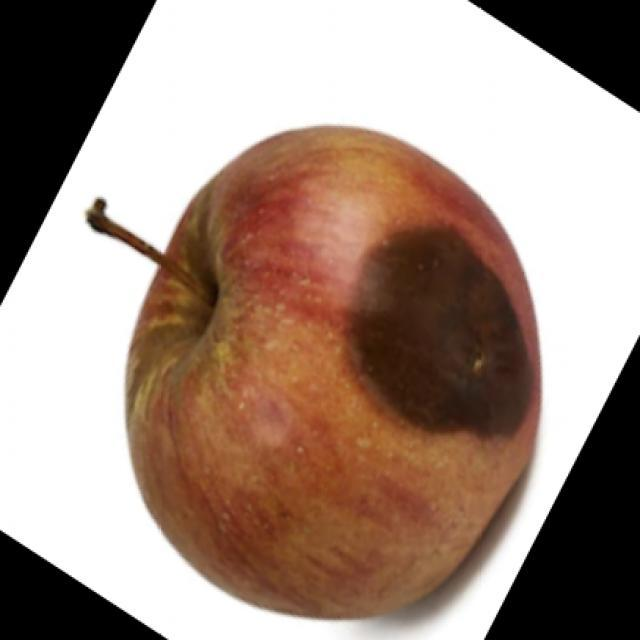Rotten: (110, 137, 523, 630)
